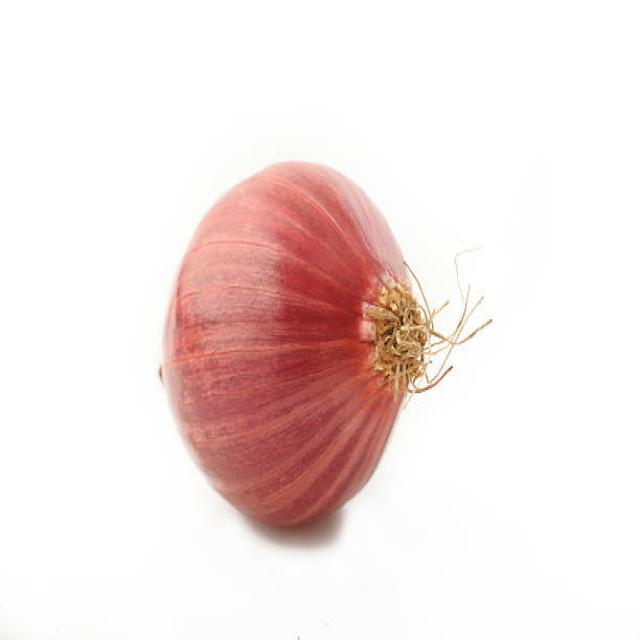onion: (160, 162, 430, 550)
